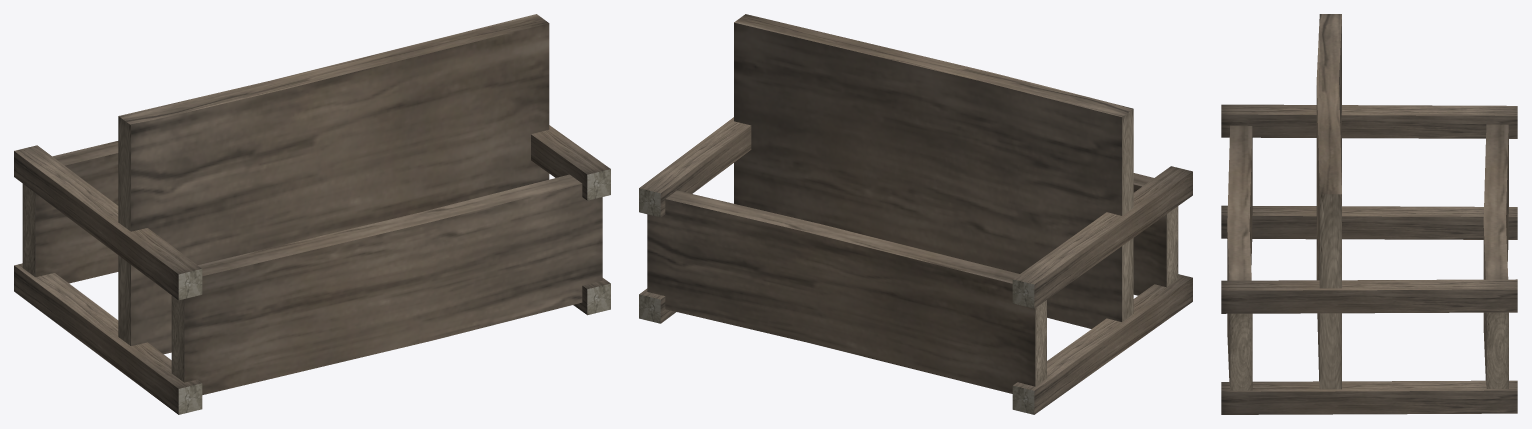
Rendered from Counter_Type_01_F.fbx.
The picture shows the model from 3 angles, left to right: view 1: azimuth 30°, elevation 25°; view 2: azimuth 150°, elevation 25°; view 3: azimuth 270°, elevation 25°; orthographic projection. The views are drawn at different scales.
Visible parts, largest first — view 1: Counter_Type_01_F; view 2: Counter_Type_01_F; view 3: Counter_Type_01_F.
Boxes of the visible parts, x1,y1,x2,y2 form: Counter_Type_01_F: [14, 14, 610, 414]; Counter_Type_01_F: [639, 14, 1192, 414]; Counter_Type_01_F: [1221, 14, 1517, 414].
Bounding box in the file's own units: 3.37 × 1.84 × 2.27.
